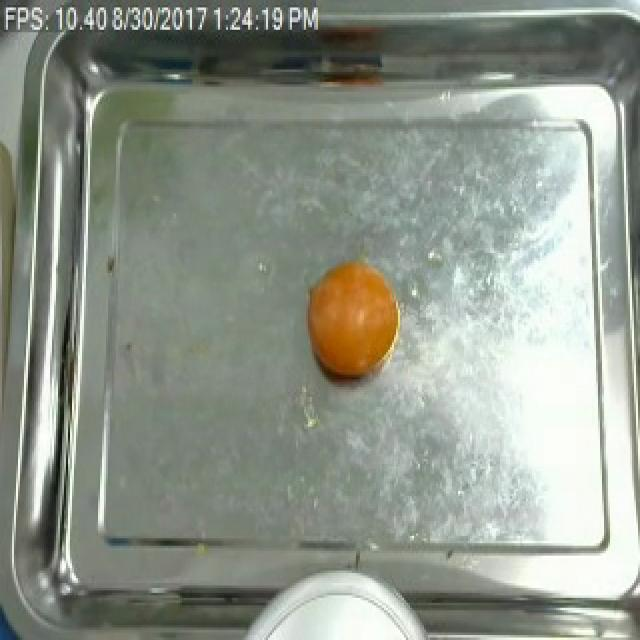Fruit: (302, 258, 404, 382)
